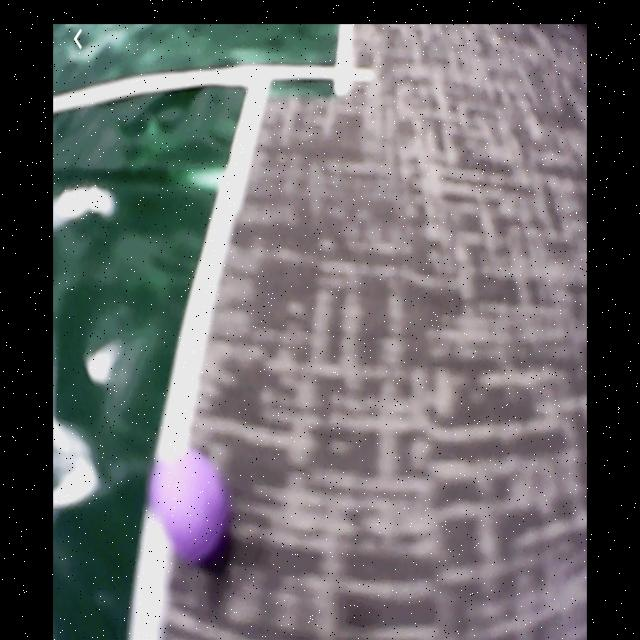ball: (155, 452, 228, 568)
